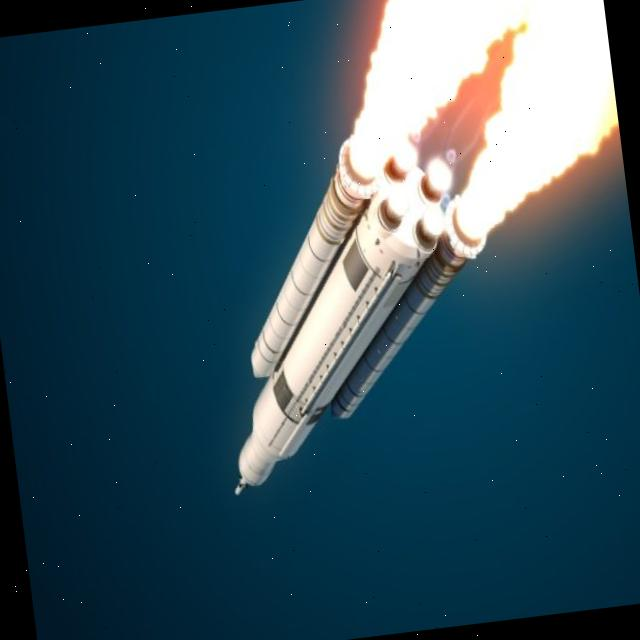rocket: (190, 123, 518, 520)
